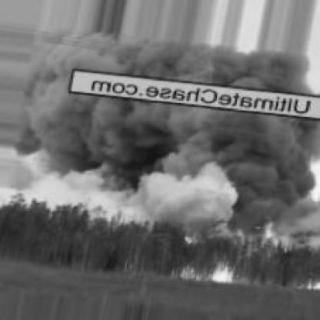Fire: (290, 273, 317, 294)
